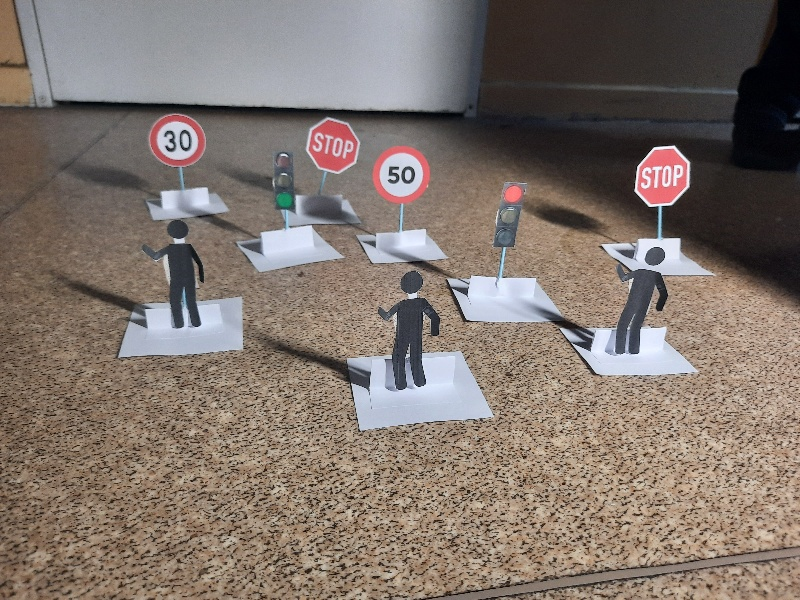Green: (271, 150, 298, 211)
Limit 30: (148, 113, 206, 165)
Limit 50: (374, 150, 429, 198)
Person: (376, 272, 441, 390), (139, 219, 209, 325), (612, 247, 668, 354)
Red: (492, 182, 524, 251)
Stop: (633, 144, 691, 208), (307, 116, 359, 173)
